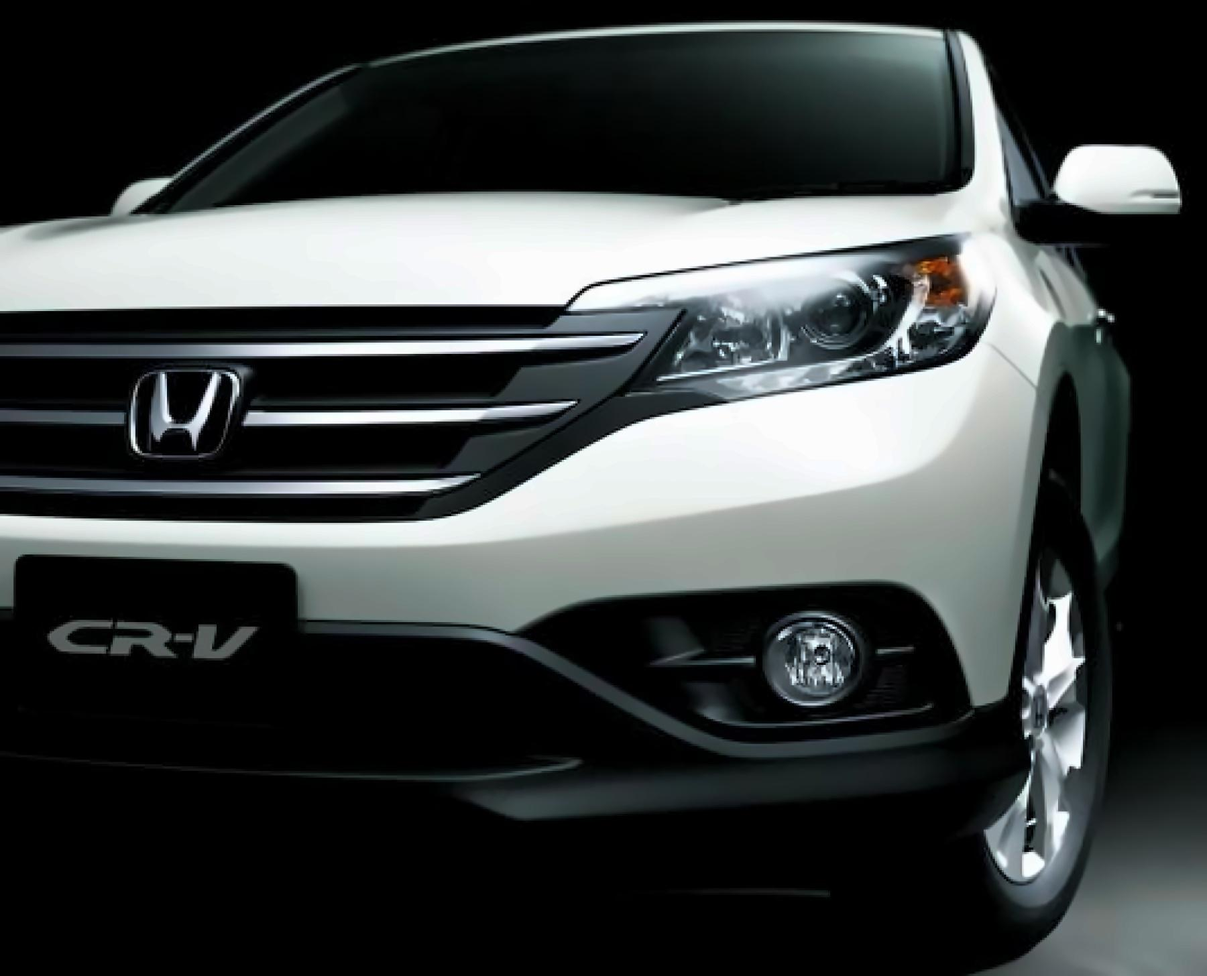Car hood: (0, 193, 988, 318)
Front bumper: (0, 340, 1046, 846)
Headlight - -L-: (590, 230, 1003, 416)
Side mirror - -L-: (1014, 143, 1191, 246)
